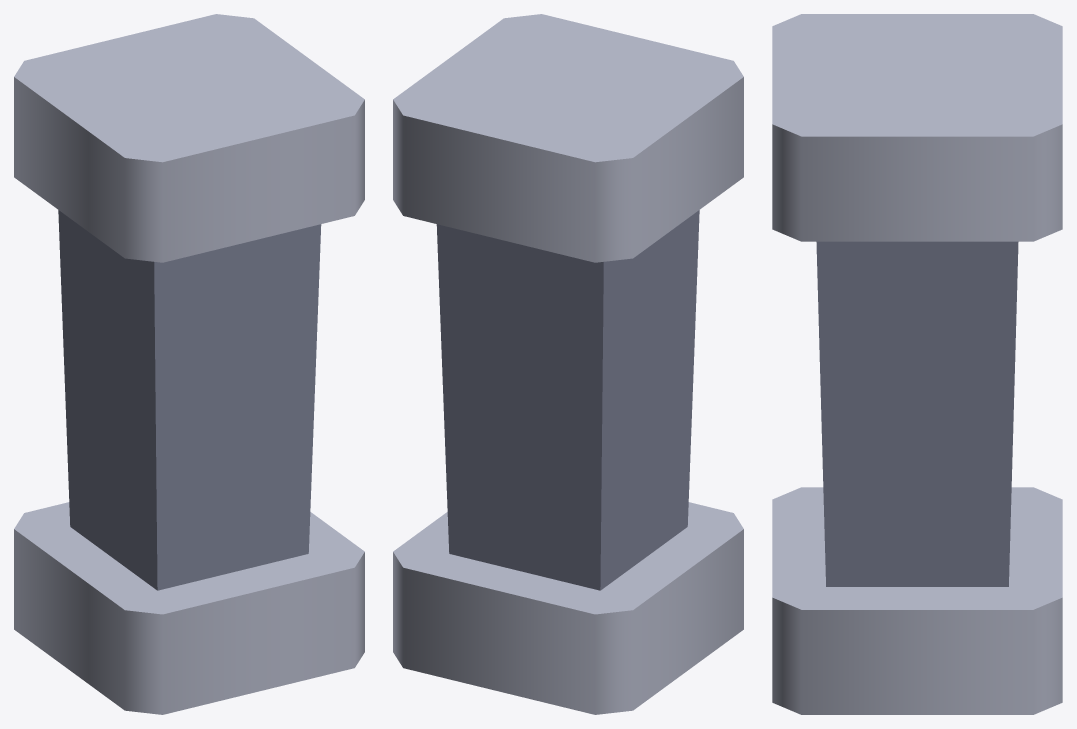
The model's file is column.glb.
The picture shows the model from 3 angles, left to right: view 1: azimuth 30°, elevation 25°; view 2: azimuth 150°, elevation 25°; view 3: azimuth 270°, elevation 25°; orthographic projection. The views are drawn at different scales.
Parts seen in each view (by area): view 1: column; view 2: column; view 3: column.
Part boxes in pixels (x1=…): column: x1=14, y1=14, x2=364, y2=714; column: x1=393, y1=14, x2=743, y2=714; column: x1=772, y1=14, x2=1062, y2=714.
Size of the model in its own units: 0.5 by 1.1 by 0.5.
